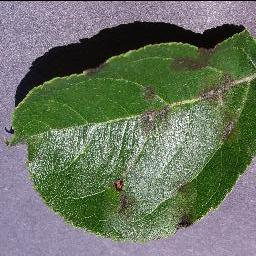apple healthy: (4, 20, 255, 244)
